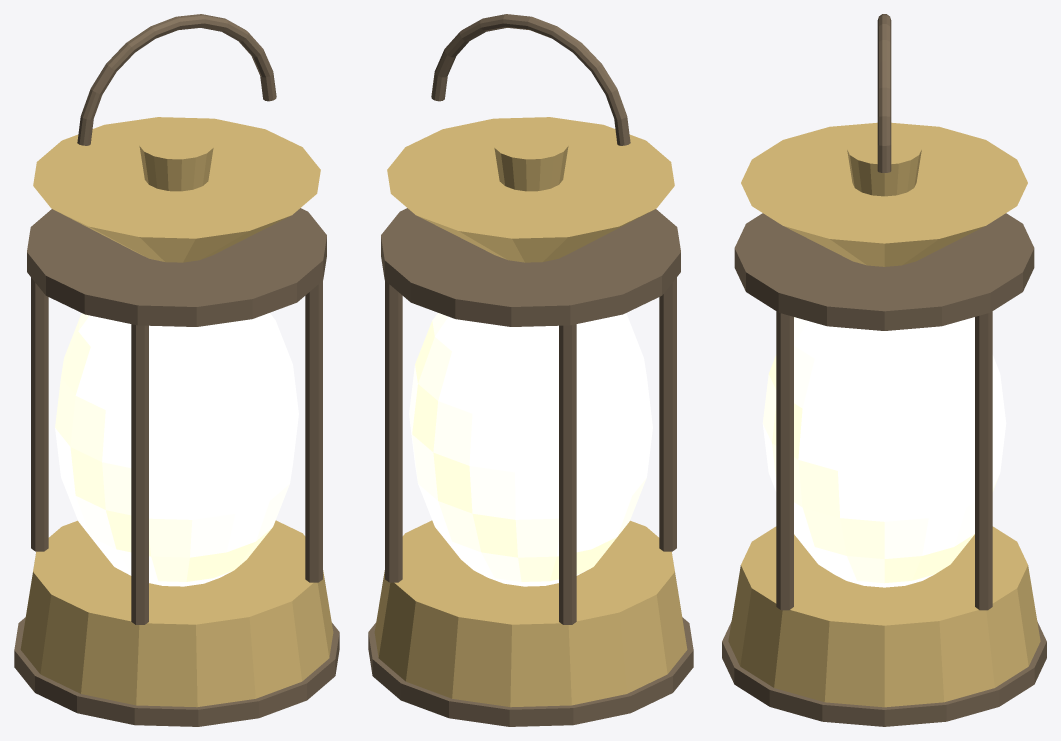
File: lantern.glb
The picture shows the model from 3 angles, left to right: view 1: azimuth 30°, elevation 25°; view 2: azimuth 150°, elevation 25°; view 3: azimuth 270°, elevation 25°; orthographic projection.
Visible parts, largest first — view 1: lantern; view 2: lantern; view 3: lantern.
Part boxes in pixels (x1=…): lantern: x1=14, y1=14, x2=339, y2=726; lantern: x1=368, y1=14, x2=693, y2=726; lantern: x1=722, y1=14, x2=1046, y2=726.
Size of the model in its own units: 0.104 by 0.2241 by 0.104.
